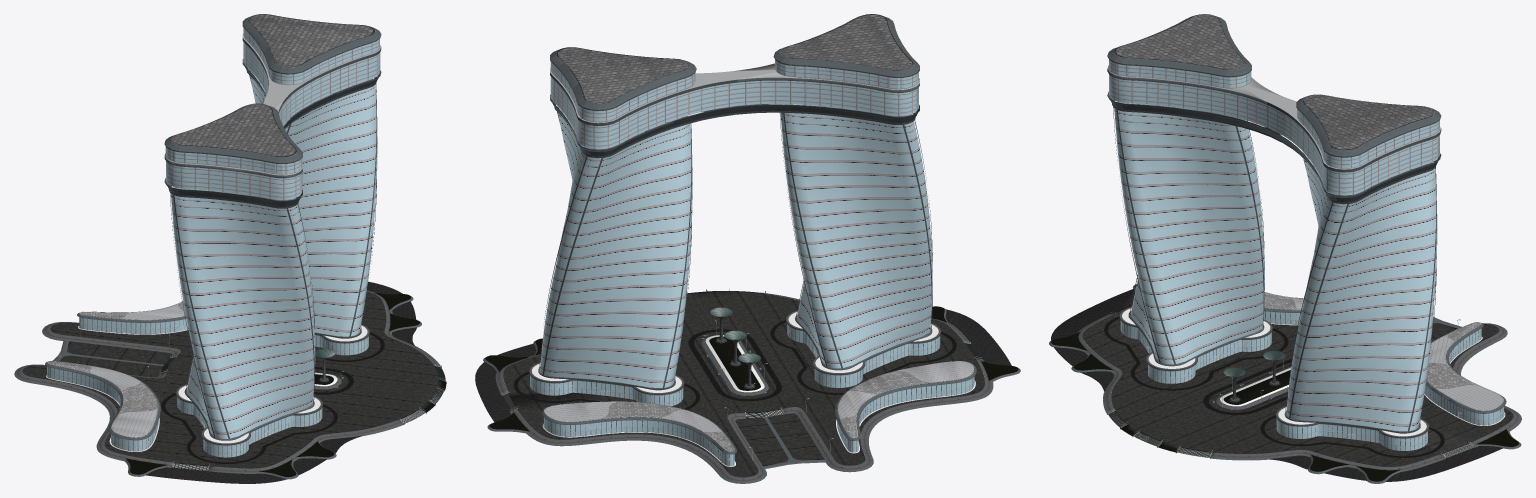
File: Mall_Attached 1.fbx
3 views of the same model, side by side, from view 1: azimuth 30°, elevation 25°; view 2: azimuth 150°, elevation 25°; view 3: azimuth 270°, elevation 25° (orthographic). The views are drawn at different scales.
Parts seen in each view (by area): view 1: Mall; view 2: Mall; view 3: Mall.
Boxes of the visible parts, left/top/right/bottom form: Mall: left=14, top=14, right=446, bottom=483; Mall: left=475, top=14, right=1020, bottom=483; Mall: left=1049, top=14, right=1521, bottom=483.
Bounding box in the file's own units: 7327 × 5210 × 7285.
